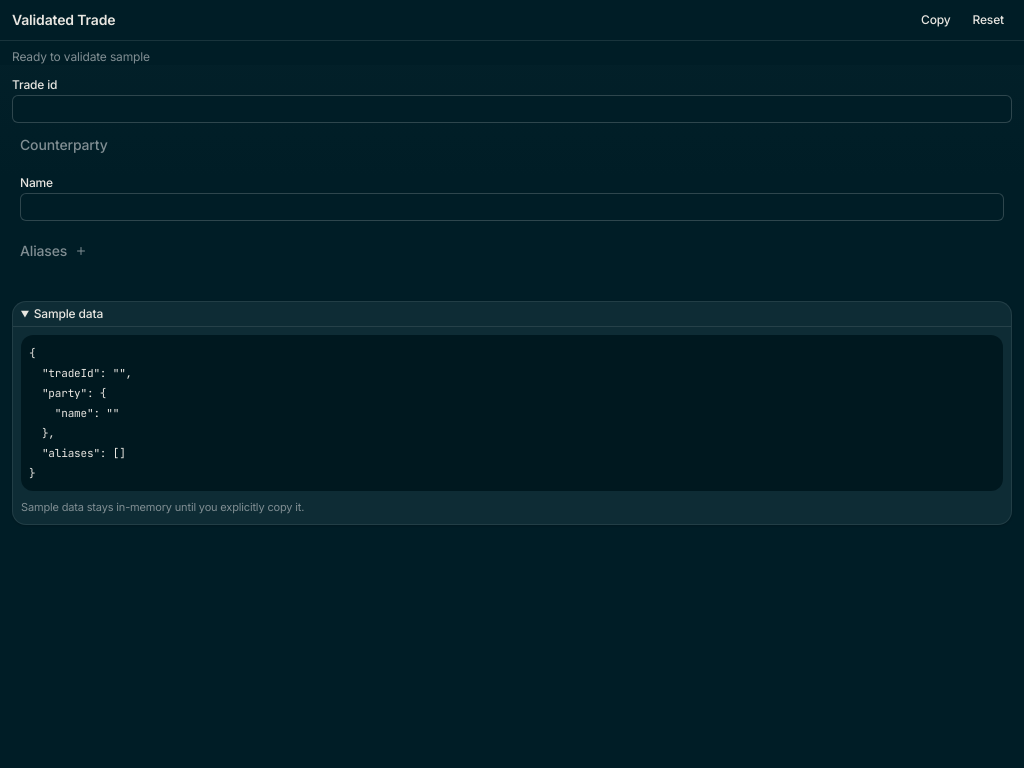
Test: FormPreviewPanel › enforces array max-cardinality validation when a repeatable field exceeds its preview limit
The image size is (1024, 768).
Type "TRD-1" into the field labelled "Trade id" at (512, 109), box x1=12 y1=95 x2=1012 y2=123
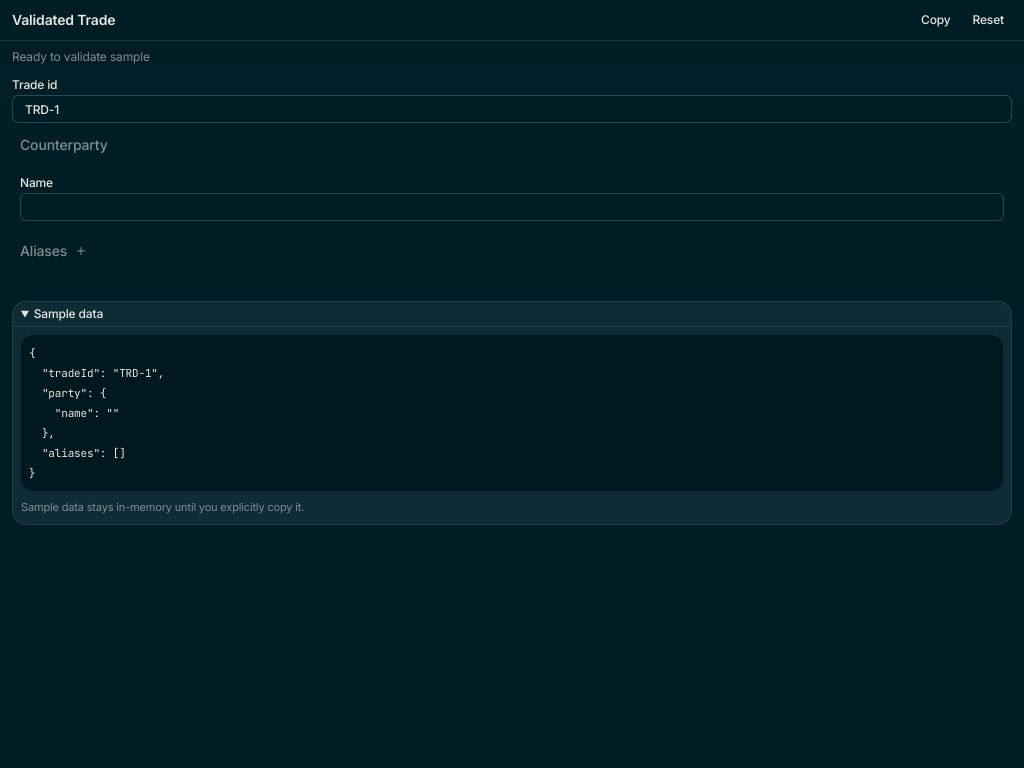
Type "Acme Bank" into the field labelled "Name" at (512, 207), box x1=20 y1=193 x2=1004 y2=221
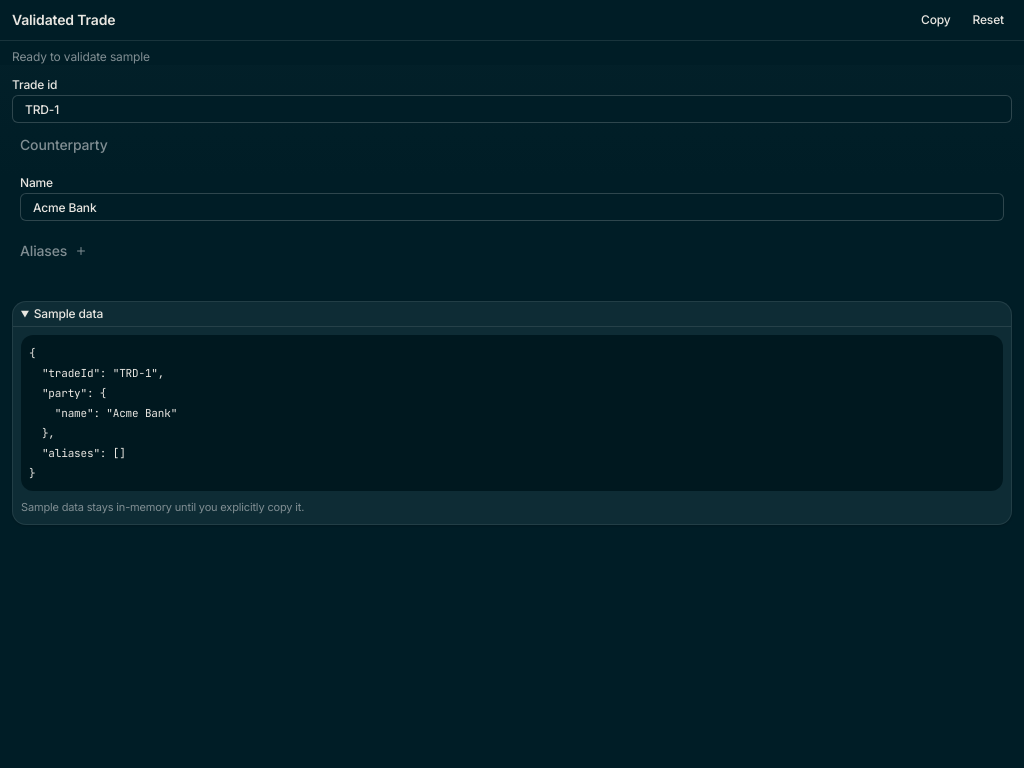
Click the button named "add aliases item" at (81, 251), box x1=73 y1=243 x2=89 y2=259
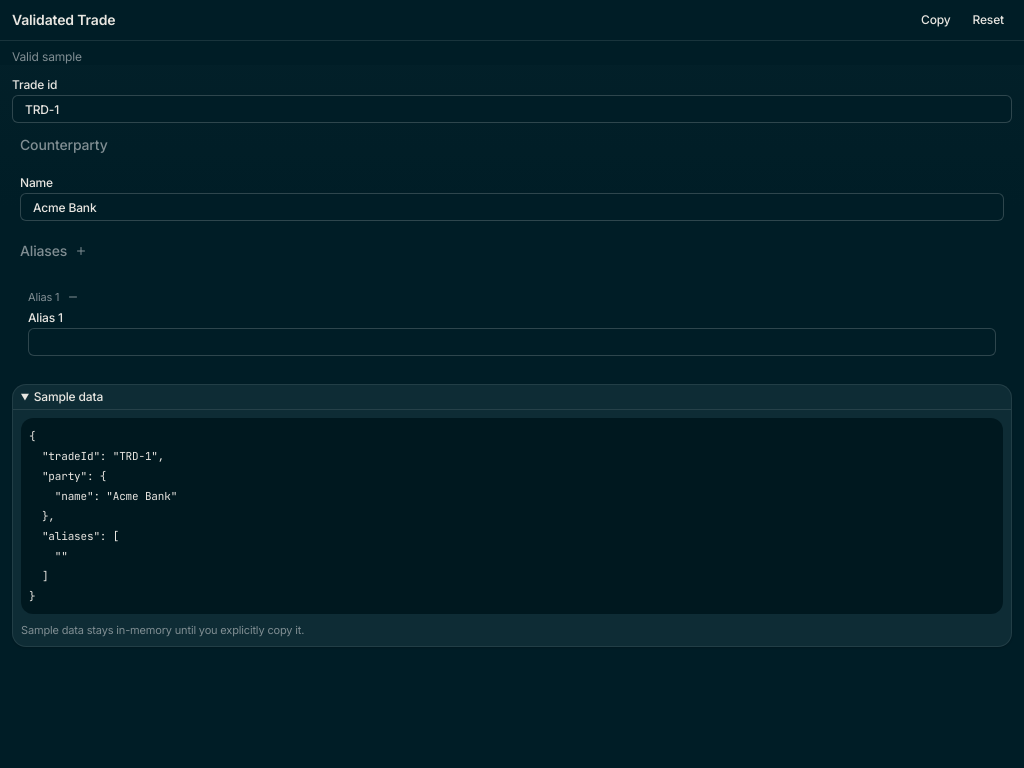
Click the button named "add aliases item" at (81, 251), box x1=73 y1=243 x2=89 y2=259
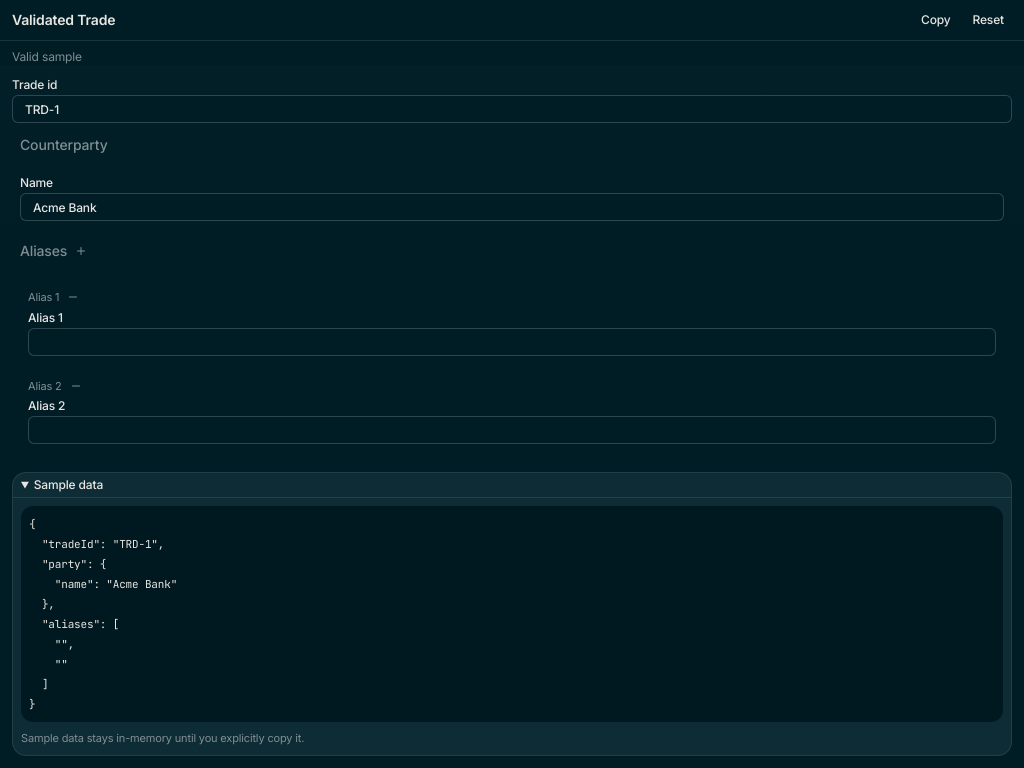
Click the button named "add aliases item" at (81, 251), box x1=73 y1=243 x2=89 y2=259
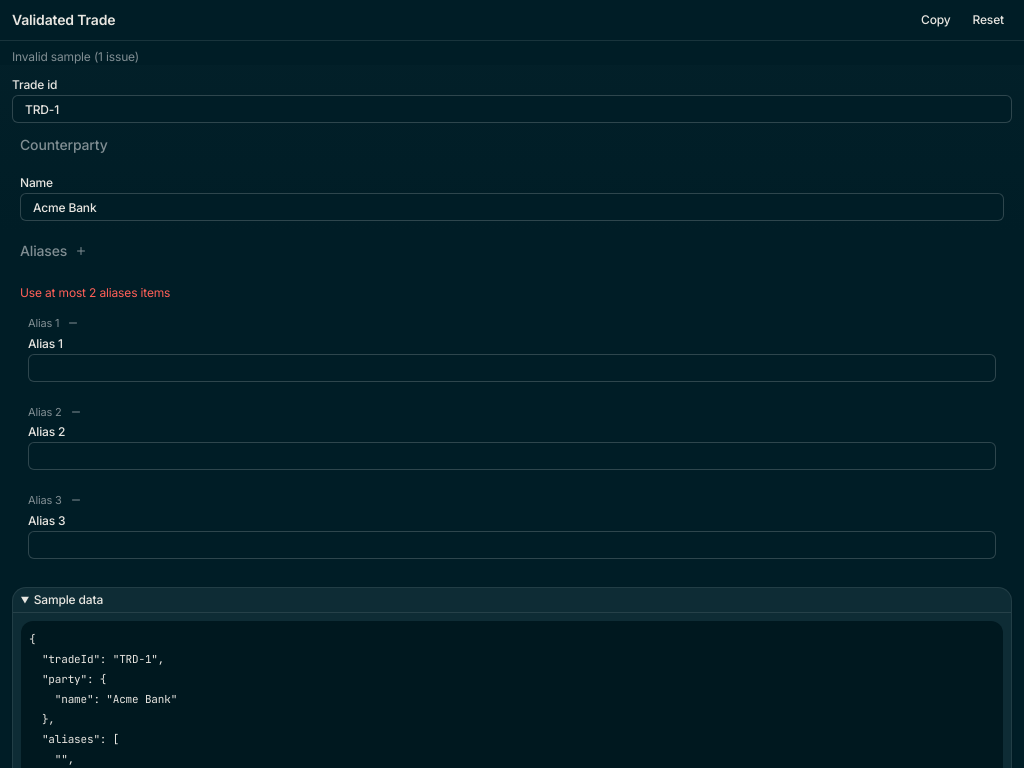
Expected: the text "Use at most 2 aliases items" is shown, x1=20 y1=285 x2=170 y2=300
Expected: the text "Invalid sample (1 issue)" is shown, x1=12 y1=49 x2=139 y2=64
